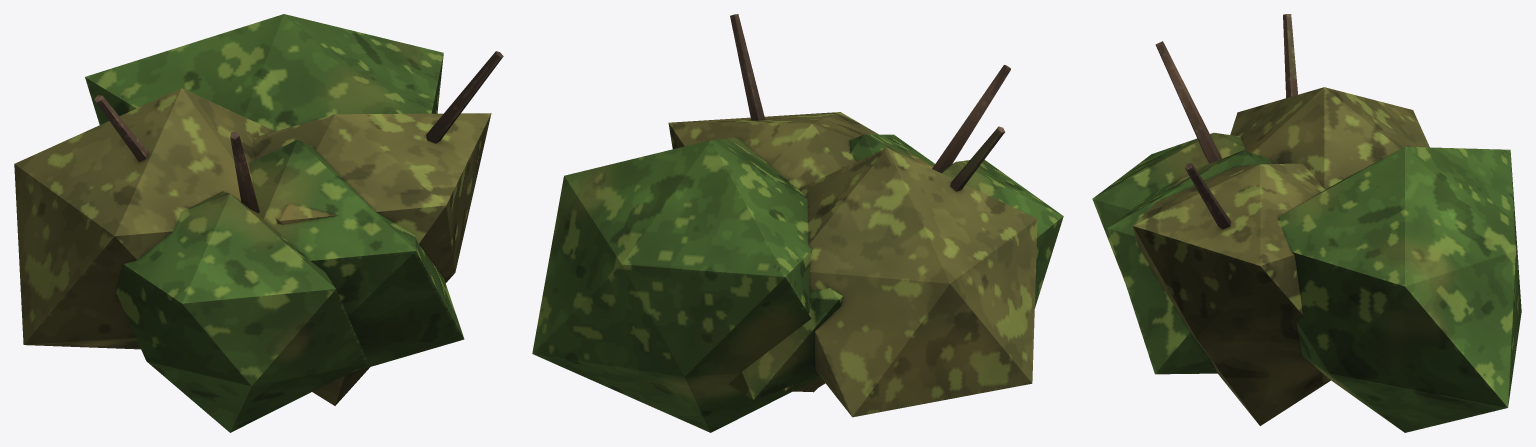
Rendered from Arbusto.glb.
The picture shows the model from 3 angles, left to right: view 1: azimuth 30°, elevation 25°; view 2: azimuth 150°, elevation 25°; view 3: azimuth 270°, elevation 25°; orthographic projection. The views are drawn at different scales.
Parts seen in each view (by area): view 1: Arbusto; view 2: Arbusto; view 3: Arbusto.
Boxes of the visible parts, x1=… form: Arbusto: x1=14, y1=14, x2=503, y2=432; Arbusto: x1=532, y1=14, x2=1063, y2=432; Arbusto: x1=1092, y1=14, x2=1521, y2=432.
Bounding box in the file's own units: 4.33 × 3.14 × 3.86.
1 material, 1 textured.
